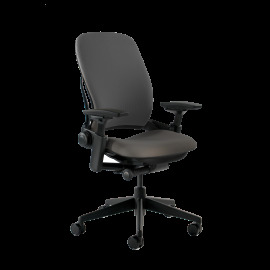chairs: (69, 32, 206, 251)
